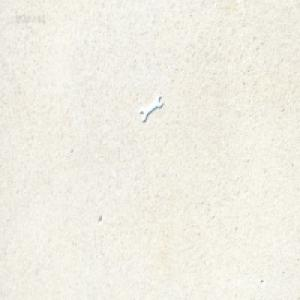Wrench: (139, 93, 161, 122)
